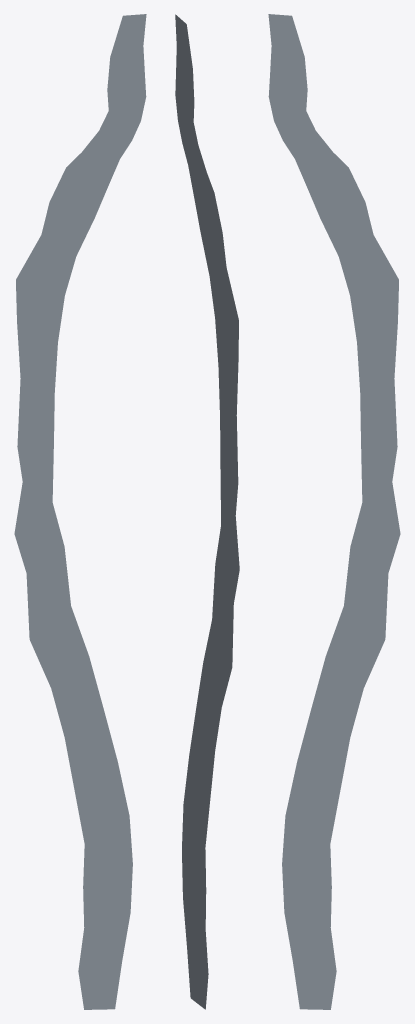
Rendered from interspinous-ligaments.glb.
The picture shows the model from 3 angles, left to right: view 1: azimuth 90°, elevation 25°; view 2: azimuth 210°, elevation 25°; view 3: azimuth 270°, elevation 25°; orthographic projection. The views are drawn at different scales.
Visible parts, largest first — view 1: Interspinous ligaments; view 2: Interspinous ligaments; view 3: Interspinous ligaments.
Part boxes in pixels (bbox=[...]): Interspinous ligaments: bbox=[14, 14, 146, 1009]; Interspinous ligaments: bbox=[175, 14, 239, 1009]; Interspinous ligaments: bbox=[268, 14, 400, 1009].
Bounding box in the file's own units: 0 × 0.5812 × 0.0699.
